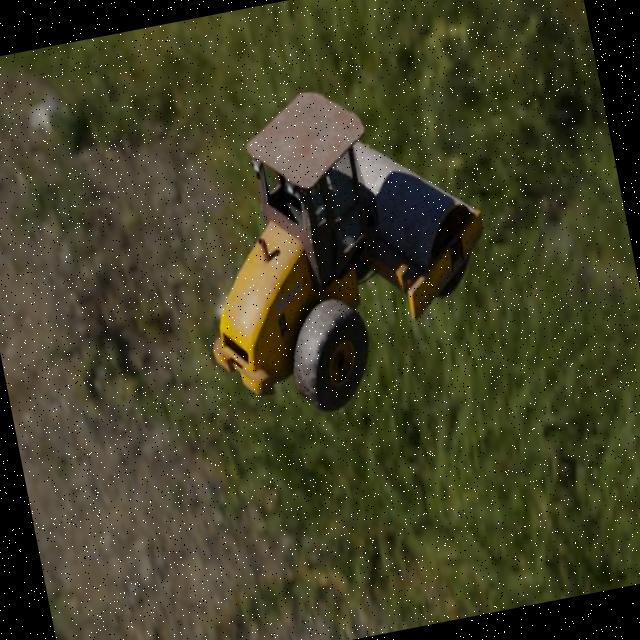Roller: (167, 62, 513, 432)
